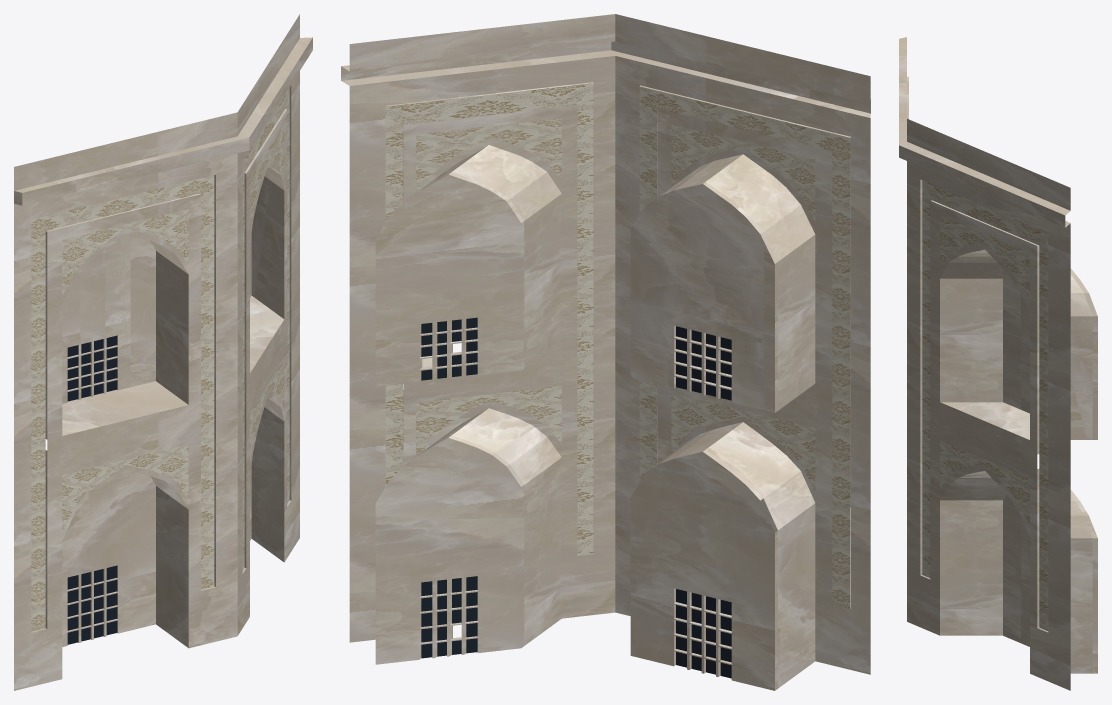
The model's file is Palace Side Wall 2.fbx.
3 views of the same model, side by side, from view 1: azimuth 30°, elevation 25°; view 2: azimuth 150°, elevation 25°; view 3: azimuth 270°, elevation 25° (orthographic). The views are drawn at different scales.
Parts seen in each view (by area): view 1: Cube.083; view 2: Cube.083; view 3: Cube.083.
Boxes of the visible parts, box(x1,y1,x2,y2) form: Cube.083: box(14, 14, 312, 690); Cube.083: box(341, 14, 870, 690); Cube.083: box(899, 37, 1097, 690).
Bounding box in the file's own units: 1478 × 1941 × 696.
3 materials, 2 textured.
